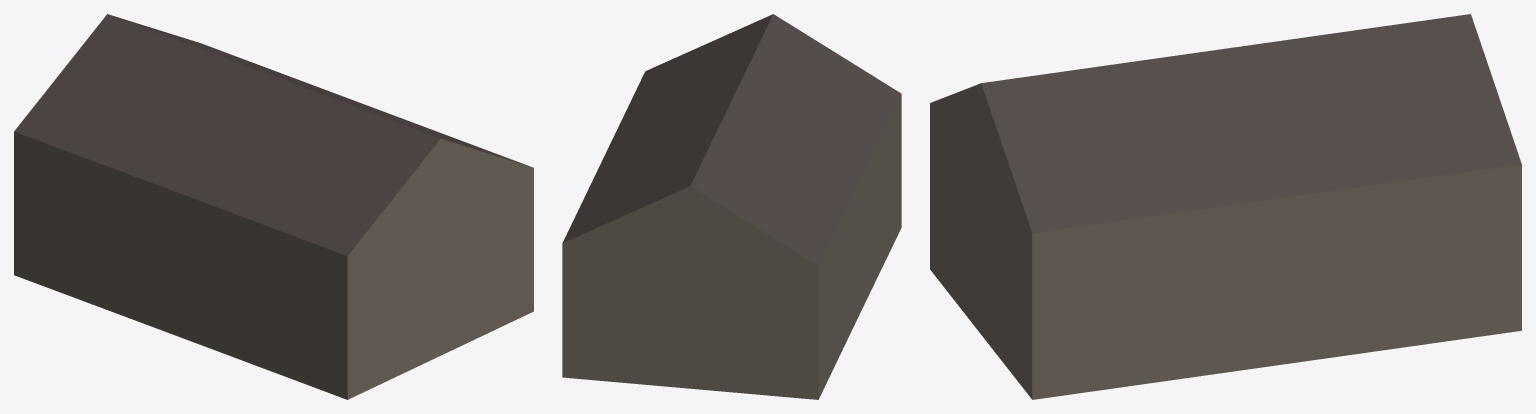
3 renders of one model, left to right at view 1: azimuth 30°, elevation 25°; view 2: azimuth 150°, elevation 25°; view 3: azimuth 270°, elevation 25°, orthographic. The views are drawn at different scales.
Parts seen in each view (by area): view 1: HP-w1197253893; view 2: HP-w1197253893; view 3: HP-w1197253893.
Part boxes in pixels (box(x1,y1,x2,y2)): HP-w1197253893: box(14, 14, 533, 399); HP-w1197253893: box(562, 14, 901, 399); HP-w1197253893: box(930, 14, 1521, 399).
Bounding box in the file's own units: 15.42 × 9.06 × 19.31.
